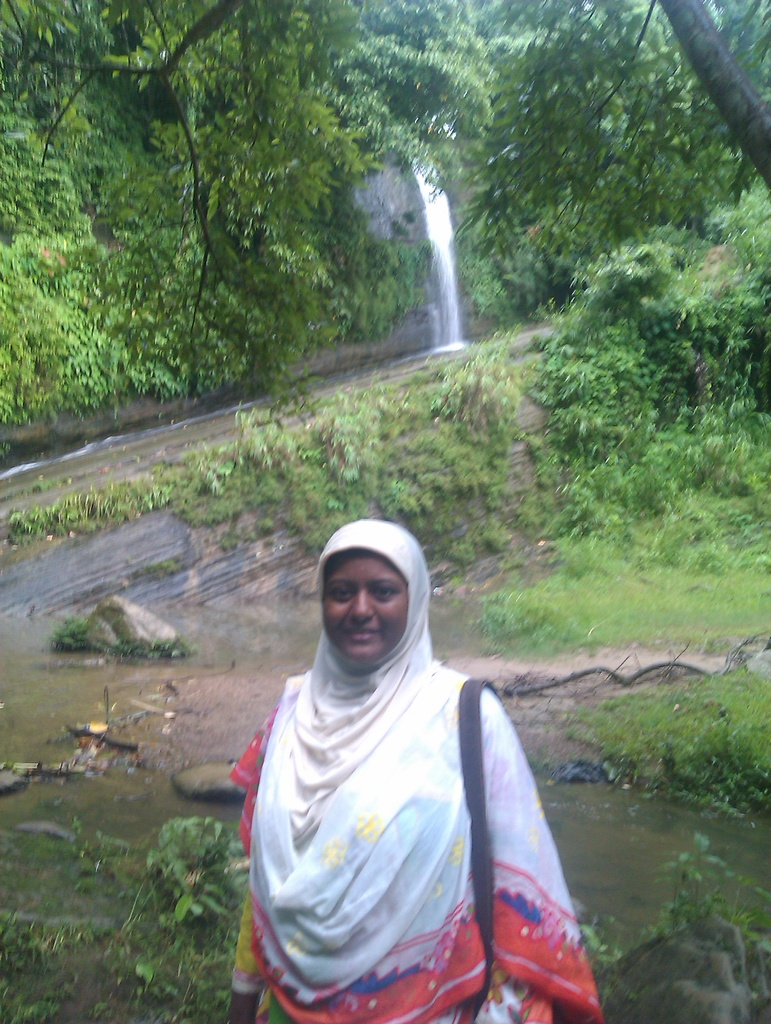Tree: (0, 0, 770, 420)
